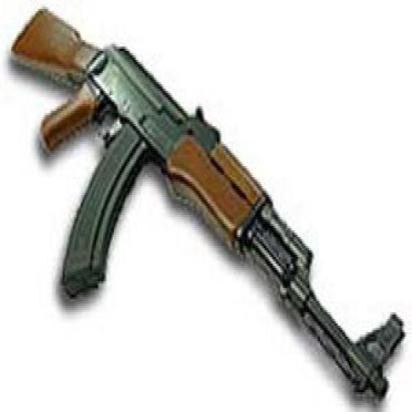Gun: (6, 3, 407, 412)
